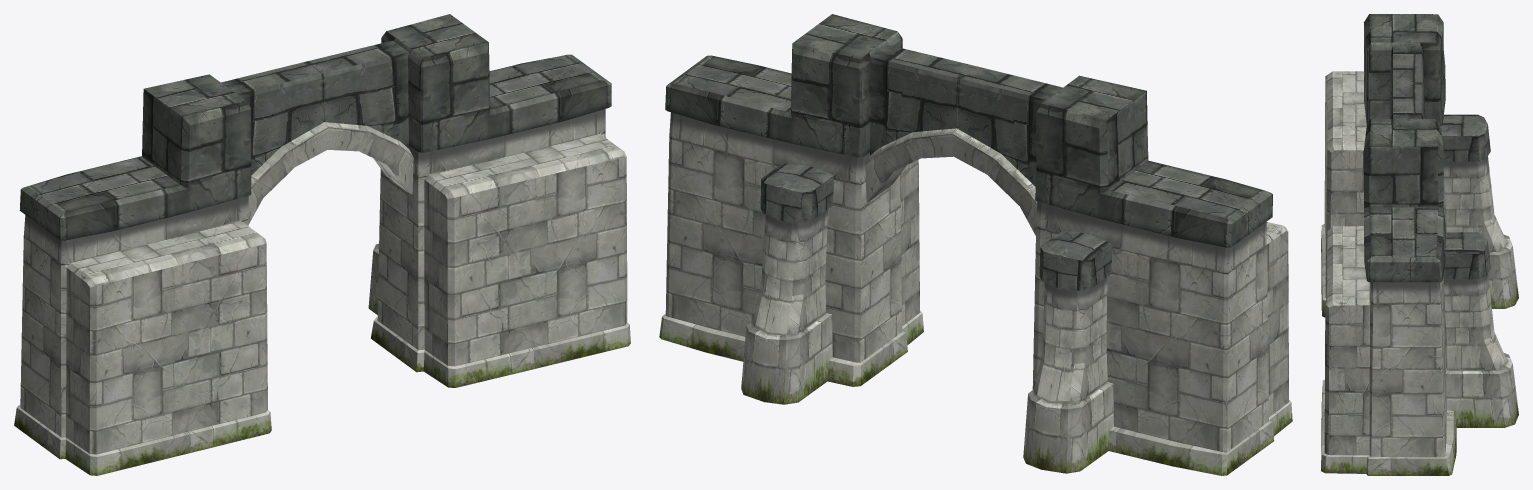
File: Gate_1.fbx
3 views of the same model, side by side, from view 1: azimuth 30°, elevation 25°; view 2: azimuth 150°, elevation 25°; view 3: azimuth 270°, elevation 25° (orthographic). The views are drawn at different scales.
Parts seen in each view (by area): view 1: ArchHalf_2, ArchHalf_1; view 2: ArchHalf_2, ArchHalf_1, Pylon_1, Pylon_2; view 3: ArchHalf_1, ArchHalf_2, Pylon_1, Pylon_2.
Part boxes in pixels (x1,y1,x2,y2): ArchHalf_2: (14,61,328,475); ArchHalf_1: (306,14,630,387); ArchHalf_2: (952,66,1292,475); ArchHalf_1: (659,14,975,386); Pylon_1: (741,163,833,404); Pylon_2: (1023,231,1113,473); ArchHalf_1: (1321,83,1456,475); ArchHalf_2: (1321,14,1445,317); Pylon_1: (1443,232,1518,427); Pylon_2: (1441,114,1518,308).
Bounding box in the file's own units: 5.1 × 2.75 × 1.78.
